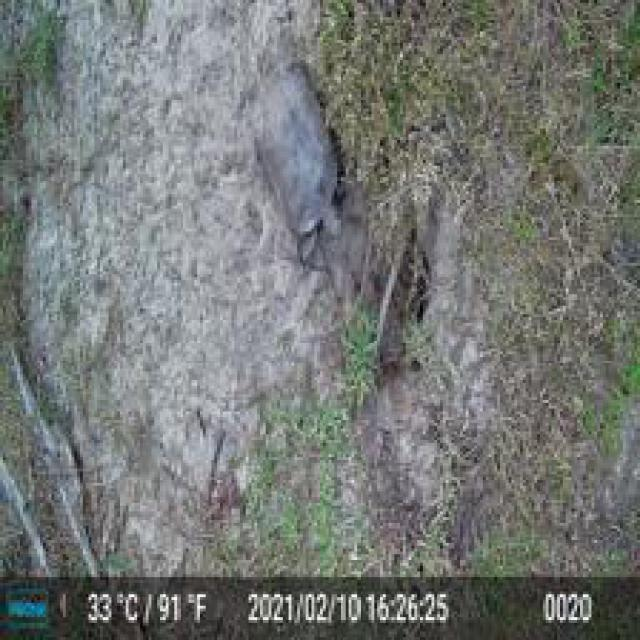tortoise: (248, 57, 352, 263)
